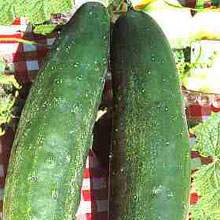cucumber: (2, 3, 111, 219), (106, 5, 192, 219)
